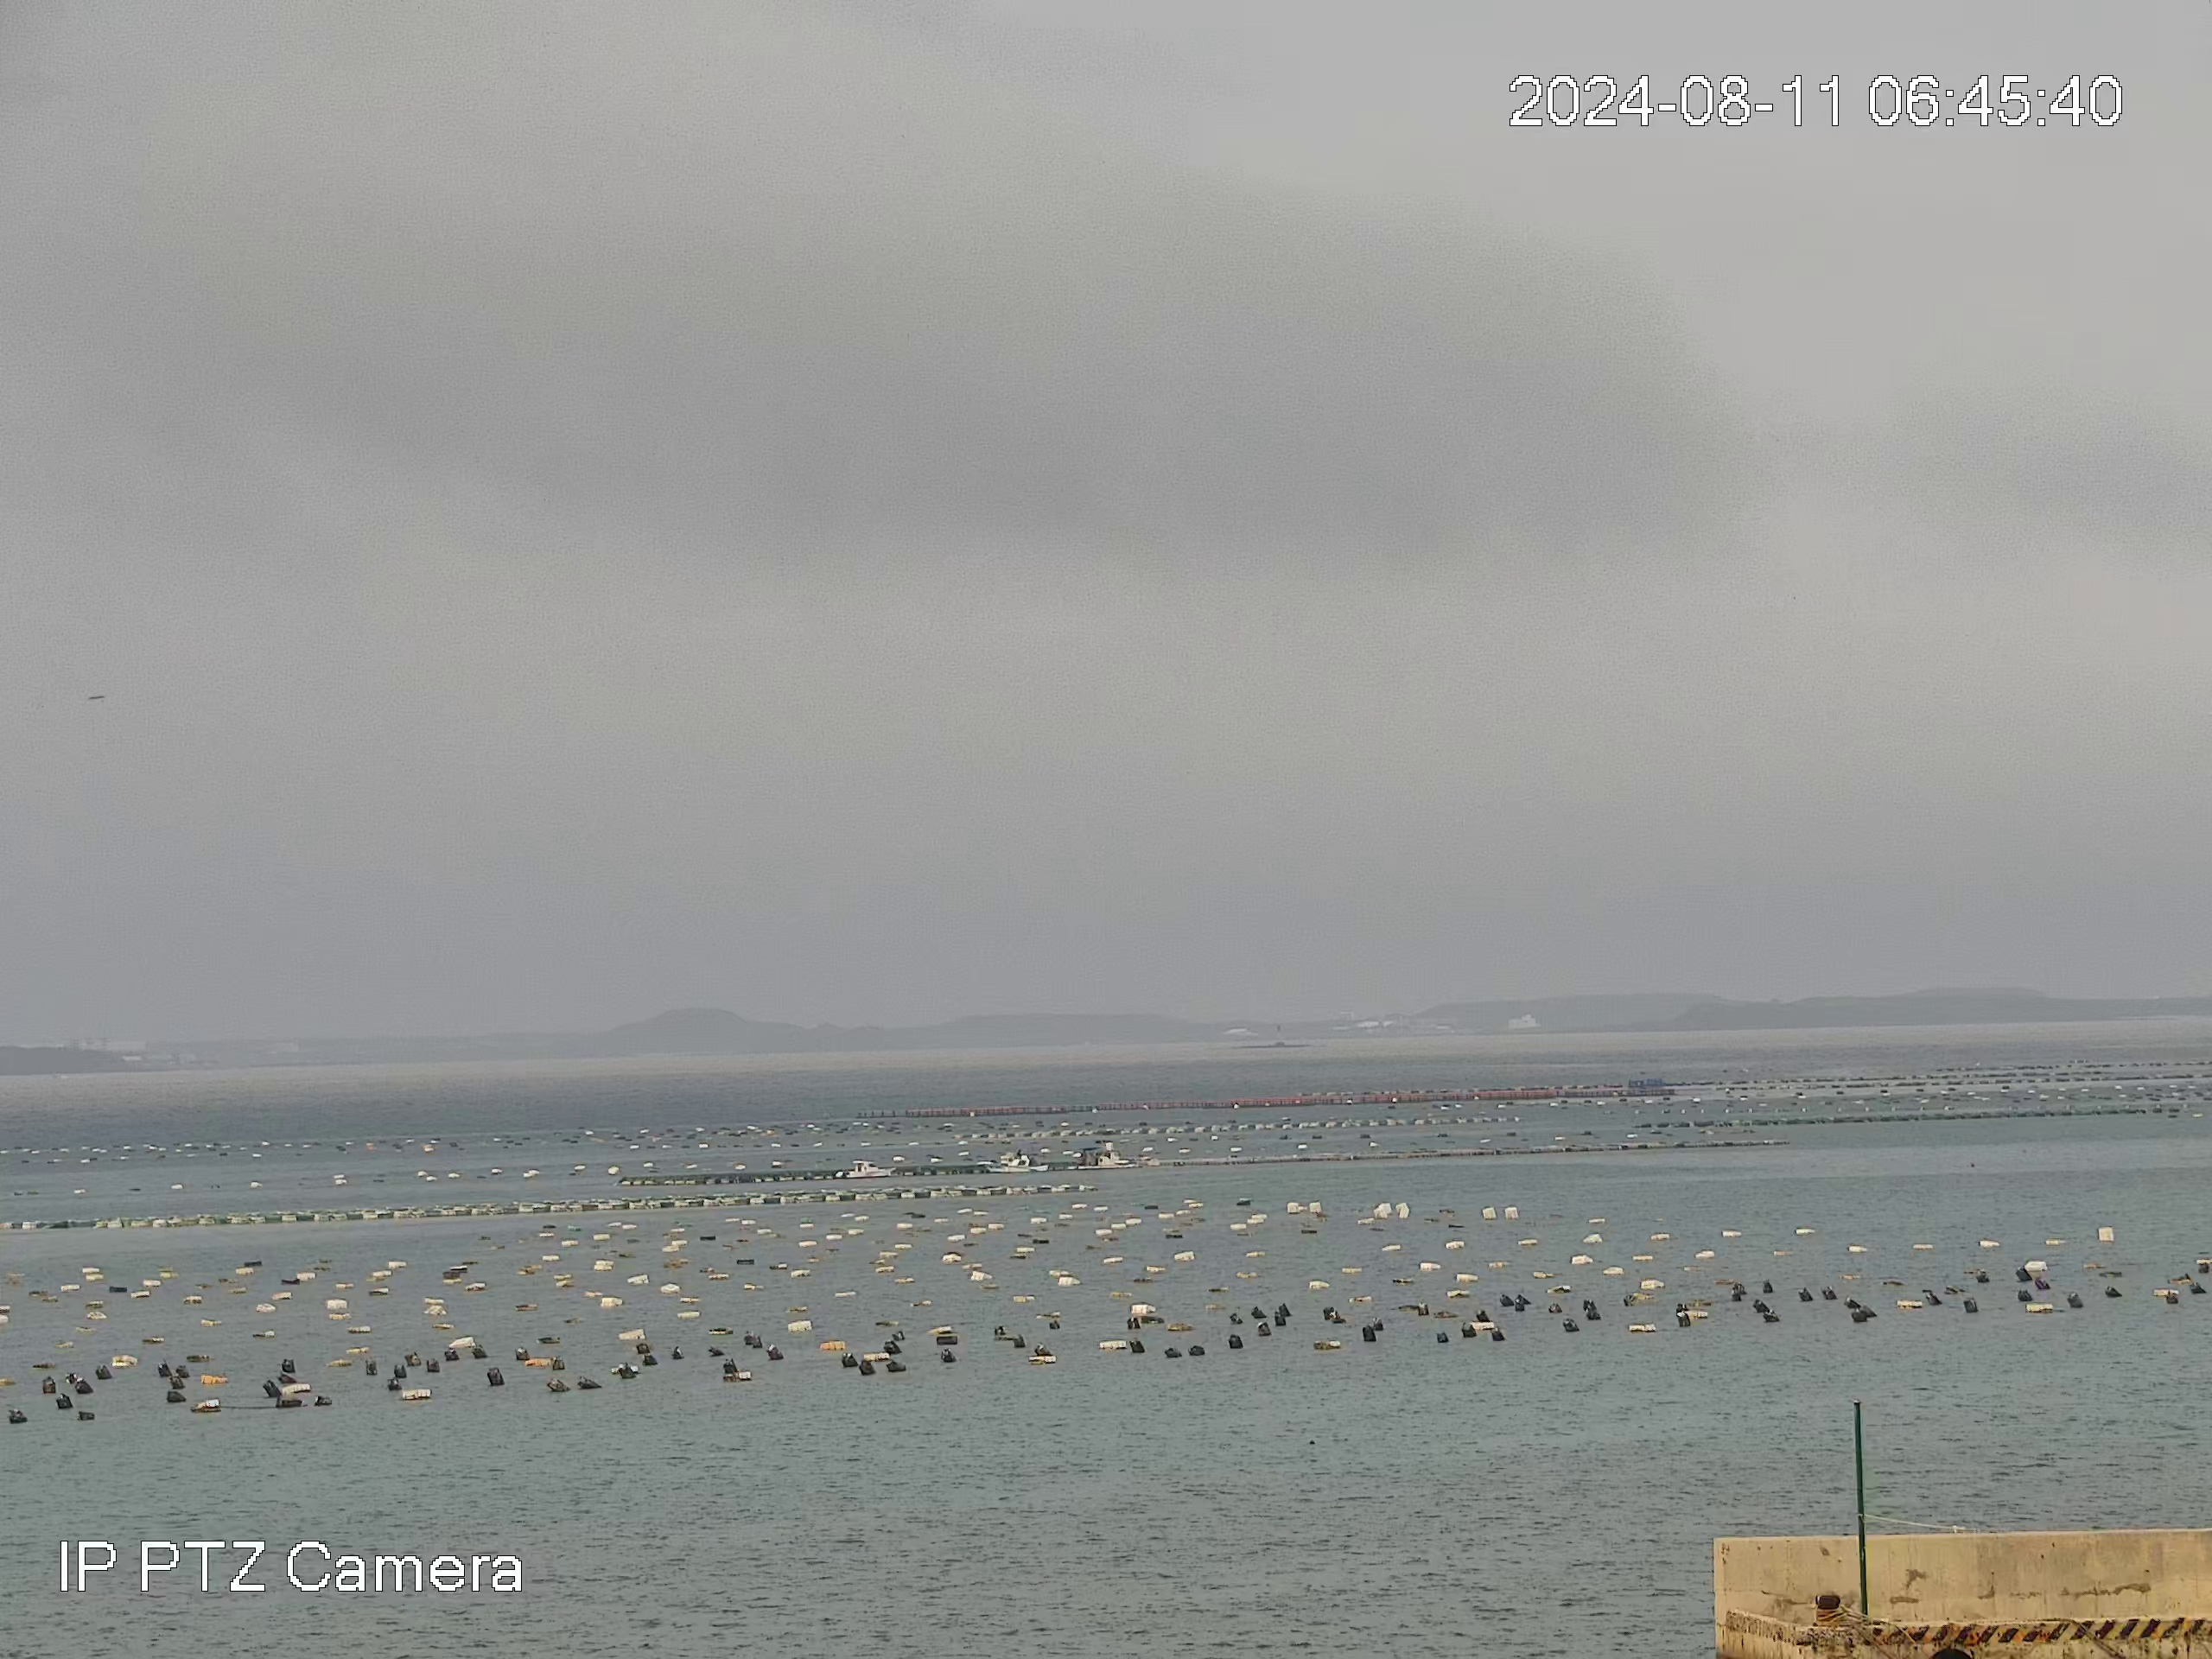boat: (977, 1154, 1049, 1175), (831, 1159, 894, 1180), (1066, 1154, 1118, 1169)
